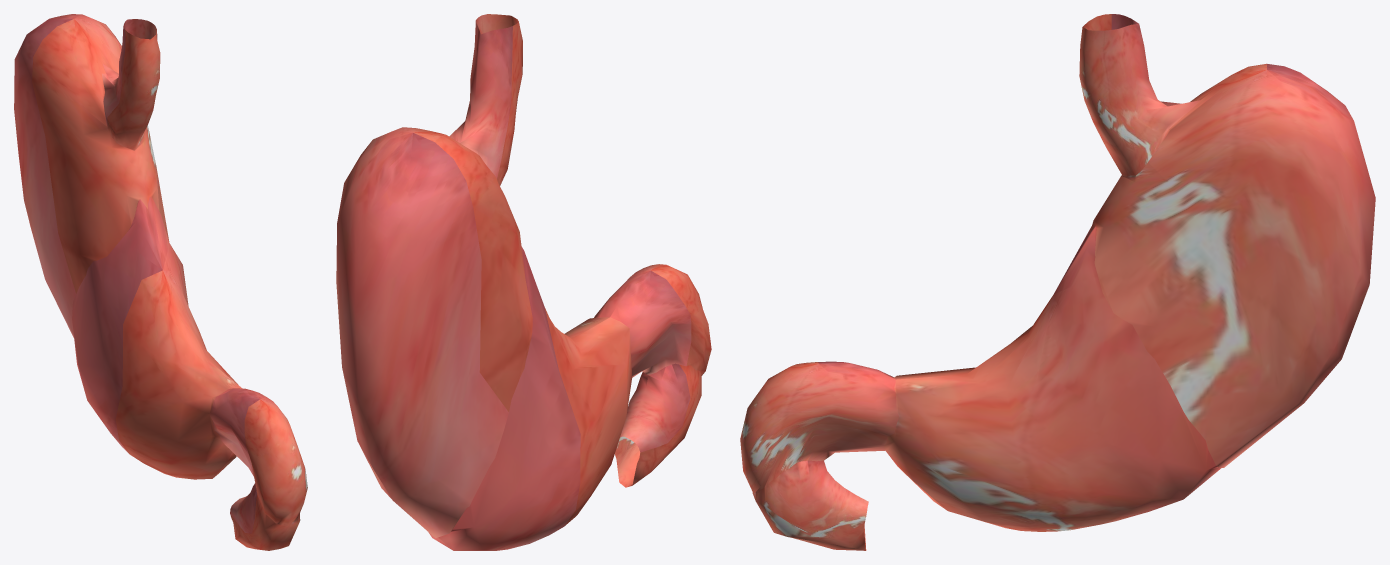
The model's file is Stomach.fbx.
3 renders of one model, left to right at view 1: azimuth 30°, elevation 25°; view 2: azimuth 150°, elevation 25°; view 3: azimuth 270°, elevation 25°, orthographic. The views are drawn at different scales.
Parts seen in each view (by area): view 1: Stomach; view 2: Stomach; view 3: Stomach.
Boxes of the visible parts, <box> form: Stomach: <box>14,14,307,550</box>; Stomach: <box>336,14,711,550</box>; Stomach: <box>740,14,1375,550</box>.
Bounding box in the file's own units: 201 × 941 × 1023.
1 material, 1 textured.
